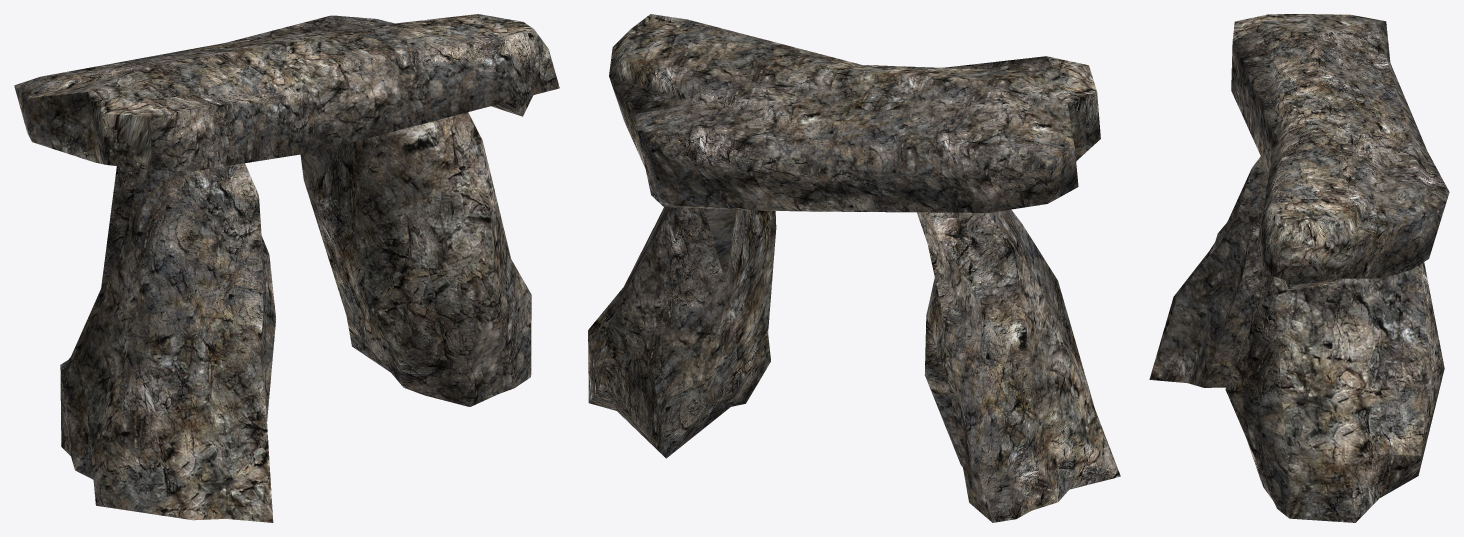
Rendered from pir_m_prp_cem_stoneAlter_2.fbx.
3 renders of one model, left to right at view 1: azimuth 30°, elevation 25°; view 2: azimuth 150°, elevation 25°; view 3: azimuth 270°, elevation 25°, orthographic. The views are drawn at different scales.
Parts seen in each view (by area): view 1: rock1, rock2, rock0; view 2: rock2, rock1, rock0; view 3: rock2, rock0, rock1.
Boxes of the visible parts, x1,y1,x2,y2 form: rock1: (60,163,275,522); rock2: (14,14,559,171); rock0: (300,112,531,406); rock2: (609,14,1100,212); rock1: (917,209,1120,522); rock0: (588,206,776,458); rock2: (1231,14,1449,290); rock0: (1225,262,1444,522); rock1: (1149,156,1268,387).
Bounding box in the file's own units: 1943 × 1509 × 1230.
1 material, 1 textured.
